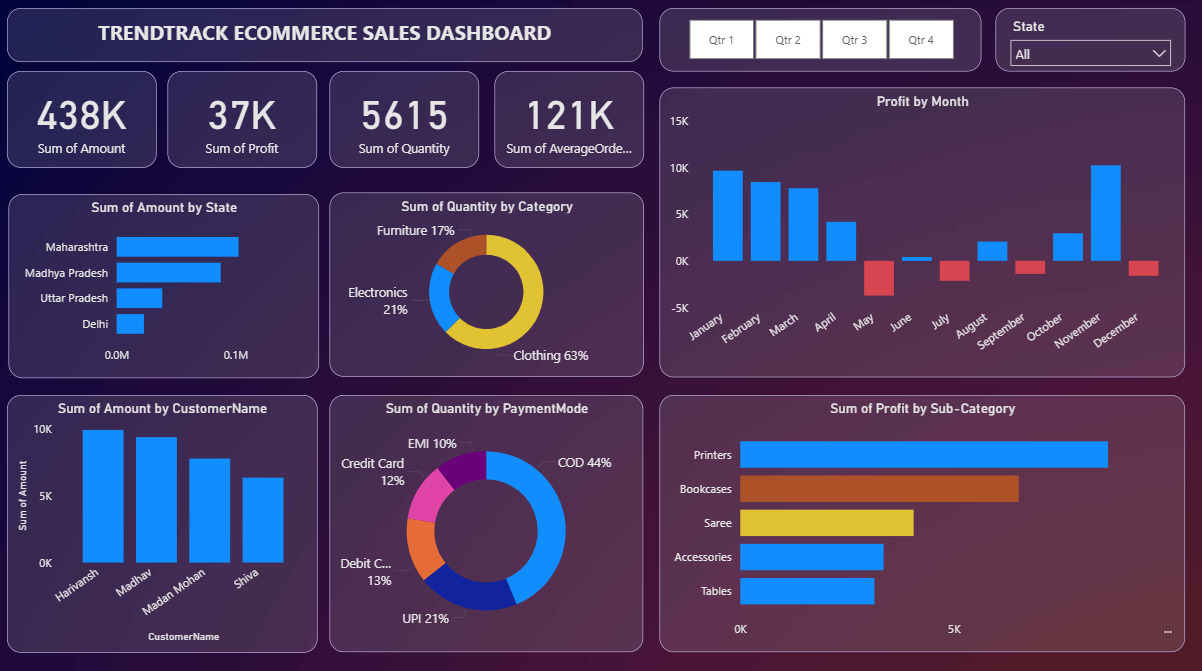

What the dashboard file says about the page in this screenshot:
{"tool":"powerbi","page":{"name":"Page 1","canvas":[1280,720],"ordinal":0},"visuals":[{"type":"columnChart","title":"Profit by Month","fields":{"Category":["Orders.Order Date.Variation.Date Hierarchy.Month"],"Y":["Details.Profit"]},"box":[701.6,93.5,557,307.6],"z":0},{"type":"barChart","fields":{"Category":["Details.Sub-Category"],"Y":["Details.Profit"]},"box":[701.4,420,557.1,272.9],"z":1000},{"type":"donutChart","fields":{"Y":["Details.Quantity"],"Category":["Details.PaymentMode"]},"box":[351.4,420,332.9,272.9],"z":2000},{"type":"card","fields":{"Values":["Details.Amount"]},"box":[10,77.1,158.6,102.9],"z":3000},{"type":"card","fields":{"Values":["Details.Quantity"]},"box":[351.4,77.1,158.6,102.9],"z":4000},{"type":"card","fields":{"Values":["Details.Profit"]},"box":[180,77.1,158.6,102.9],"z":5000},{"type":"card","fields":{"Values":["Details.AOV"]},"box":[525.7,77.1,158.6,102.9],"z":6000},{"type":"columnChart","fields":{"Category":["Orders.CustomerName"],"Y":["Details.Amount"]},"box":[10,420,329,273],"z":7000},{"type":"textbox","box":[10,10,674.3,57.1],"z":8000},{"type":"slicer","fields":{"Values":["Orders.Order Date.Variation.Date Hierarchy.Quarter"]},"box":[701.4,10,341.4,67.1],"z":9000},{"type":"slicer","fields":{"Values":["Orders.State"]},"box":[1057.1,10,201.4,67.1],"z":10000},{"type":"donutChart","fields":{"Category":["Details.Category"],"Y":["Details.Quantity"]},"box":[351.5,205.5,333.1,195.6],"z":11000},{"type":"barChart","fields":{"Category":["Orders.State"],"Y":["Details.Amount"]},"box":[10.8,206.2,329.2,195.4],"z":12000}]}

Visuals, with their boxes in screenshot pixels (x1, y1, x2, y2), scaled from the page's 1280x720 canvas onto the 1202x671 screenshot:
"Profit by Month" columnChart: left=659, top=87, right=1182, bottom=374
barChart - Details.Sub-Category x Details.Profit: left=659, top=391, right=1182, bottom=646
donutChart - Details.Quantity x Details.PaymentMode: left=330, top=391, right=643, bottom=646
card - Details.Amount: left=9, top=72, right=158, bottom=168
card - Details.Quantity: left=330, top=72, right=479, bottom=168
card - Details.Profit: left=169, top=72, right=318, bottom=168
card - Details.AOV: left=494, top=72, right=643, bottom=168
columnChart - Orders.CustomerName x Details.Amount: left=9, top=391, right=318, bottom=646
textbox: left=9, top=9, right=643, bottom=63
slicer - Orders.Order Date.Variation.Date Hierarchy.Quarter: left=659, top=9, right=979, bottom=72
slicer - Orders.State: left=993, top=9, right=1182, bottom=72
donutChart - Details.Category x Details.Quantity: left=330, top=192, right=643, bottom=374
barChart - Orders.State x Details.Amount: left=10, top=192, right=319, bottom=374
